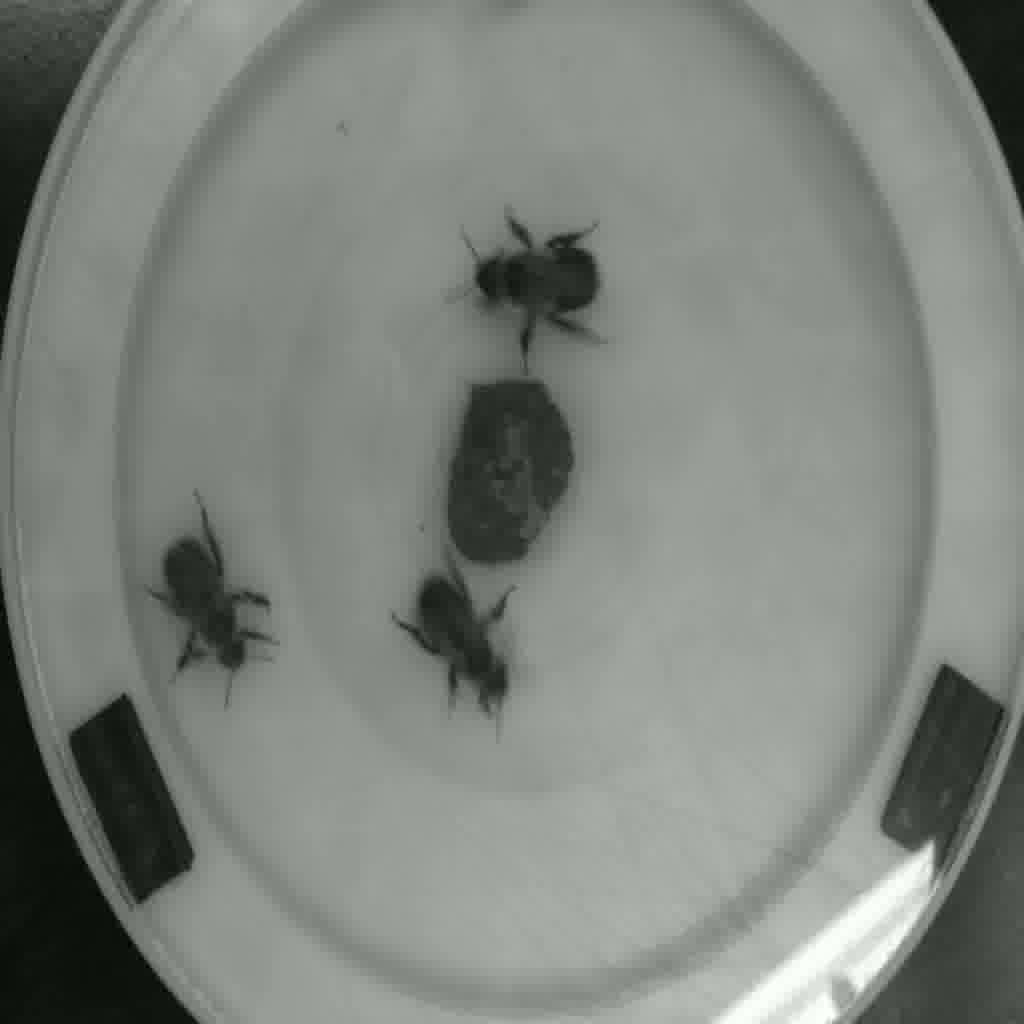bee: (144, 516, 286, 693), (464, 209, 615, 359), (398, 566, 527, 718)
